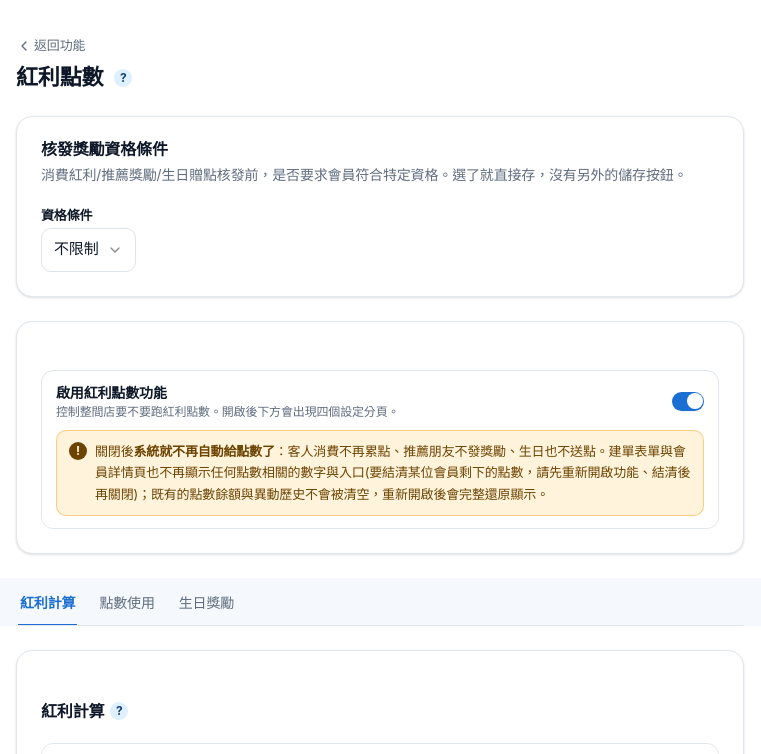
Scenario: §4.5 生日獎勵 › 超過 1000 字 ⇒ 儲存鈕不能按
This screenshot has width=761, height=754.
Click the tab "生日獎勵" at (206, 604), box [177,582,236,626]
(page scrolled)
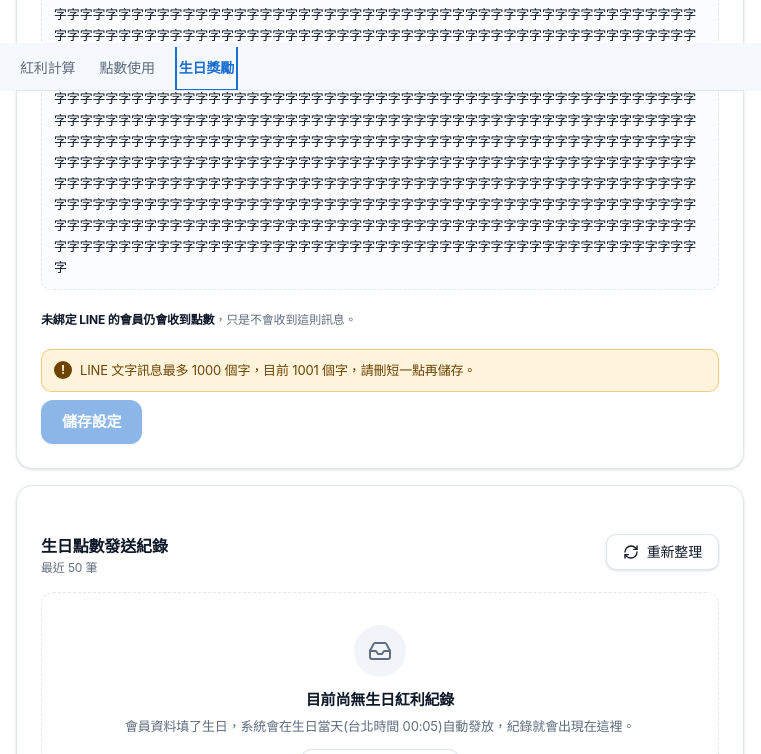
Check: the button "儲存設定" is disabled, box [41,400,142,444]
Check: the text "LINE 文字訊息最多 1000 個字，目前 1001 個字，請刪短一點再儲存。" is shown, box [80,362,476,378]
